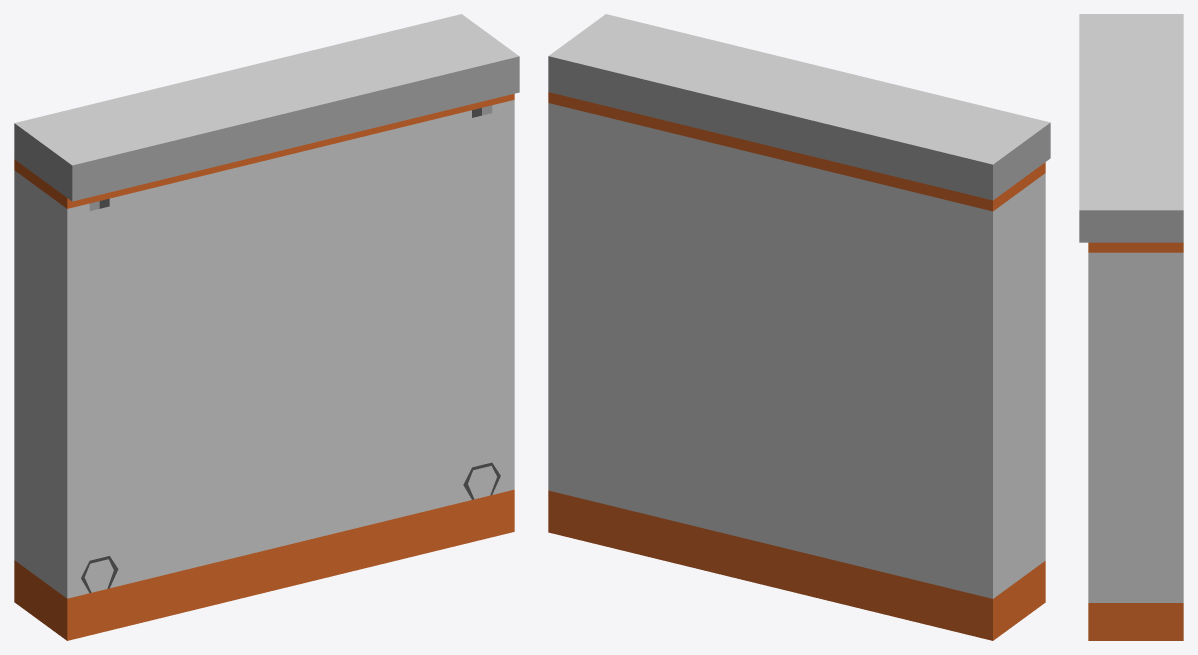
Rendered from Stena.fbx.
3 views of the same model, side by side, from view 1: azimuth 30°, elevation 25°; view 2: azimuth 150°, elevation 25°; view 3: azimuth 270°, elevation 25° (orthographic). The views are drawn at different scales.
Parts seen in each view (by area): view 1: Cube.003; view 2: Cube.003; view 3: Cube.003.
Part boxes in pixels (<box>): Cube.003: <box>14,14,519,640</box>; Cube.003: <box>548,14,1050,640</box>; Cube.003: <box>1079,14,1183,640</box>.
Bounding box in the file's own units: 293 × 300 × 65.71.
